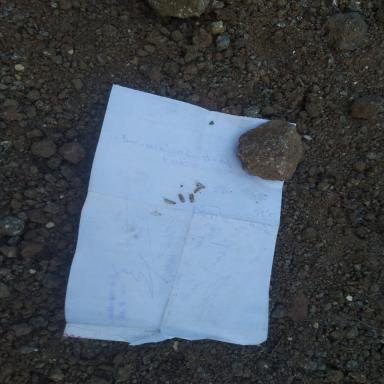pbw: (162, 196, 176, 204), (178, 193, 184, 202), (196, 182, 205, 188), (189, 193, 194, 202), (194, 186, 201, 192)
